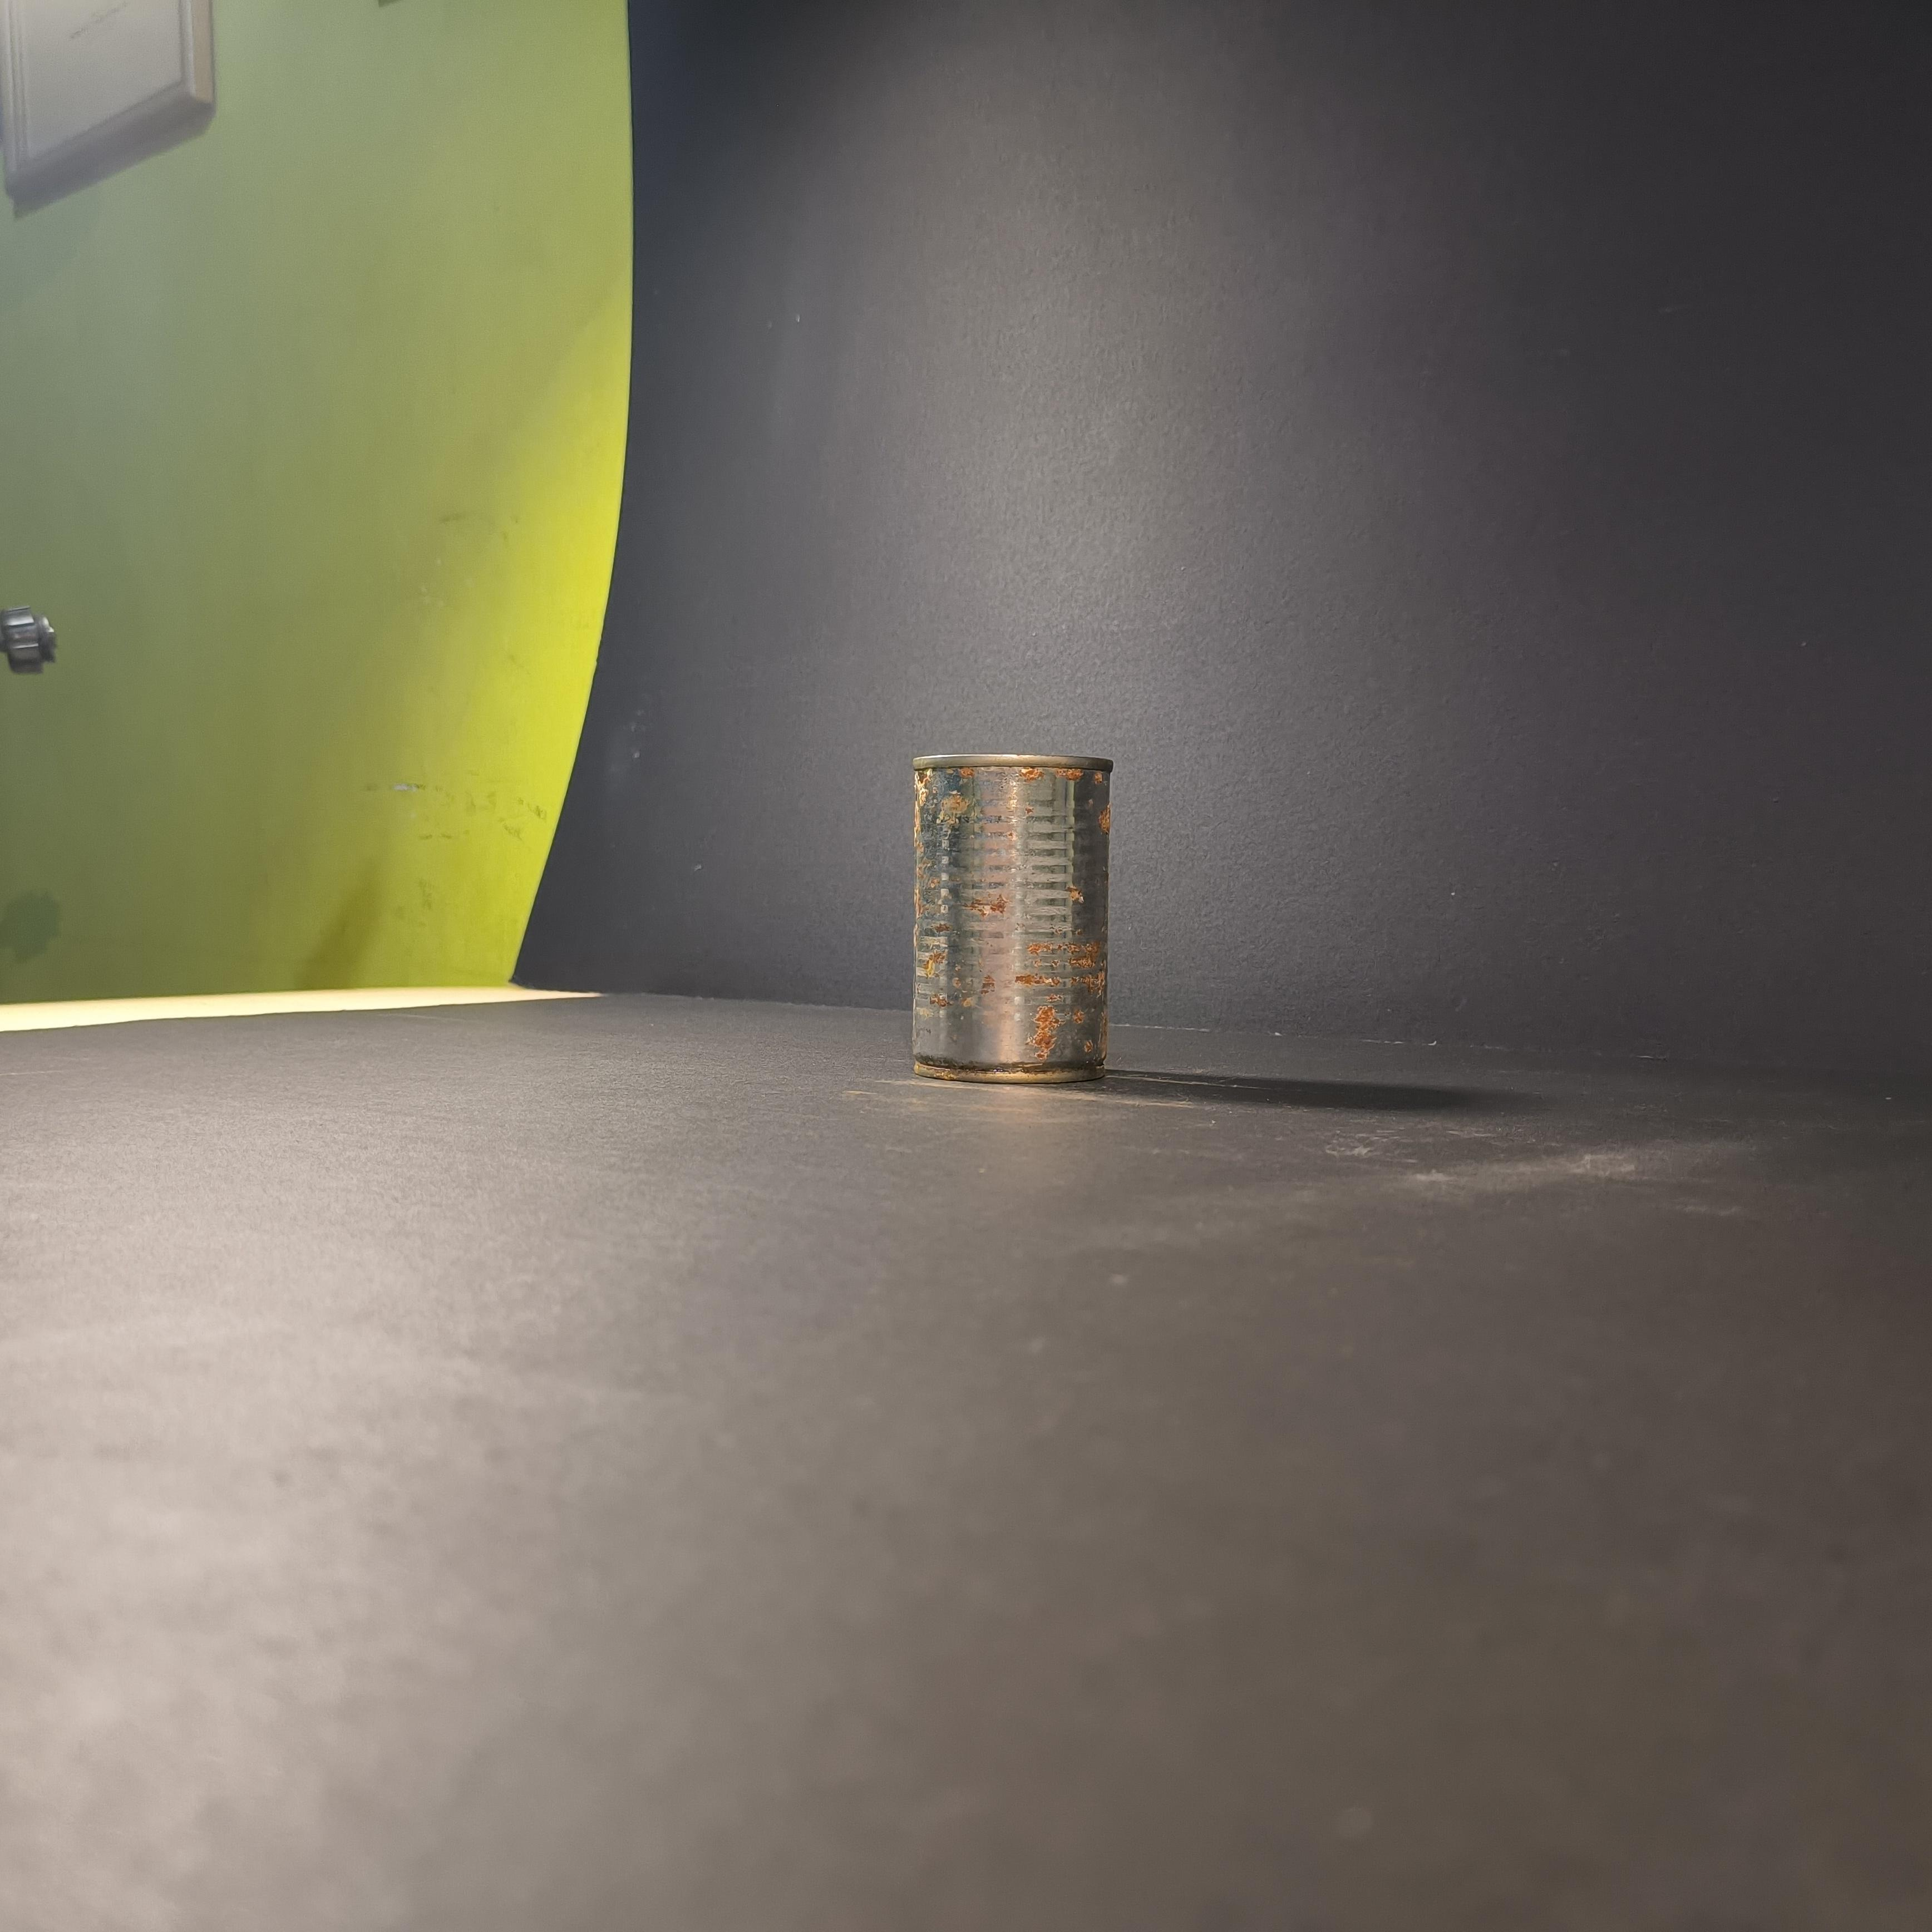Rusted: (915, 738, 1123, 1113)
